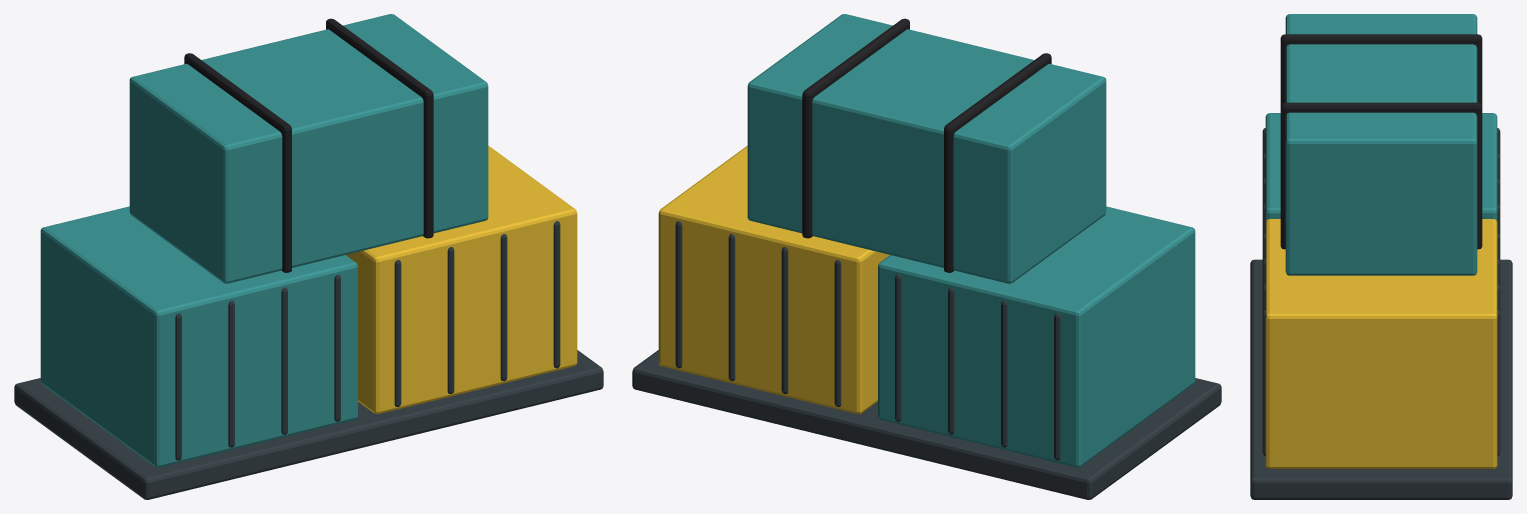
The model's file is cargo_stack.fbx.
3 renders of one model, left to right at view 1: azimuth 30°, elevation 25°; view 2: azimuth 150°, elevation 25°; view 3: azimuth 270°, elevation 25°, orthographic.
Parts seen in each view (by area): view 1: cargo_stack; view 2: cargo_stack; view 3: cargo_stack.
Part boxes in pixels (x1,y1,x2,y2): cargo_stack: (14,14,603,499); cargo_stack: (632,14,1221,499); cargo_stack: (1250,14,1512,499).
Bounding box in the file's own units: 2.6 × 1.76 × 1.3.
